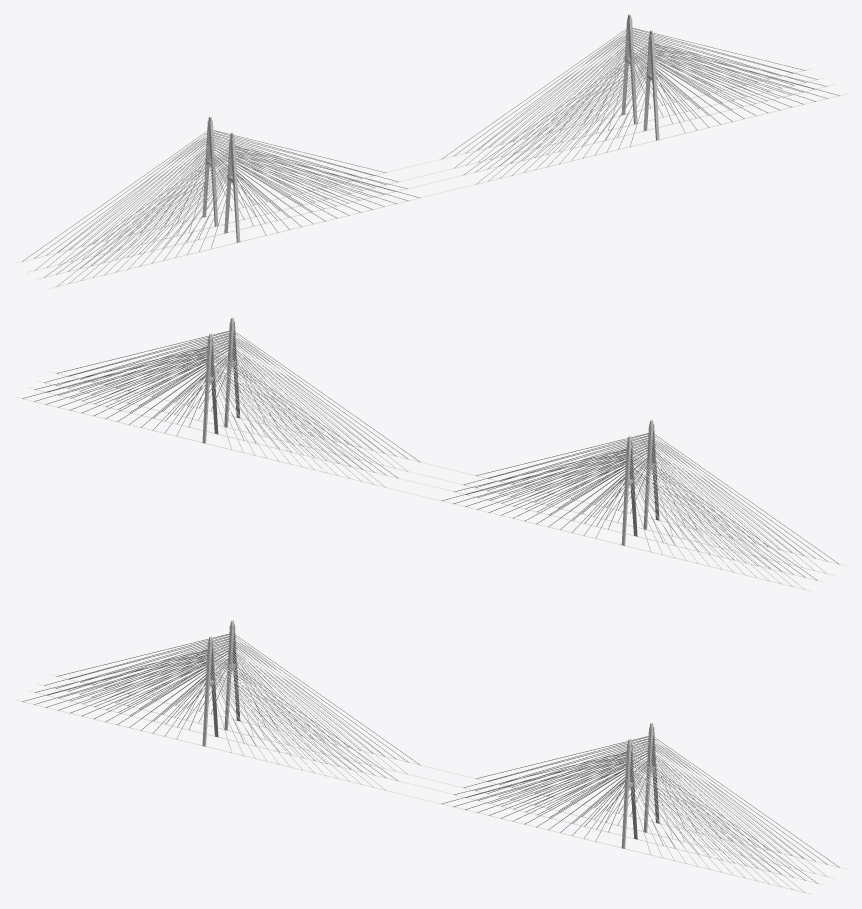
The model's file is bigobuhovskiybridge.dae.
3 views of the same model, one above another, from view 1: azimuth 30°, elevation 25°; view 2: azimuth 150°, elevation 25°; view 3: azimuth 330°, elevation 25° (orthographic).
Parts seen in each view (by area): view 1: bigobuhovskiybridge; view 2: bigobuhovskiybridge; view 3: bigobuhovskiybridge.
Boxes of the visible parts, <box> form: bigobuhovskiybridge: <box>14,14,847,288</box>; bigobuhovskiybridge: <box>14,317,847,591</box>; bigobuhovskiybridge: <box>14,620,847,894</box>.
Size of the model in its own units: 1.11 by 0.0851 by 0.139.
1 material, 1 textured.
